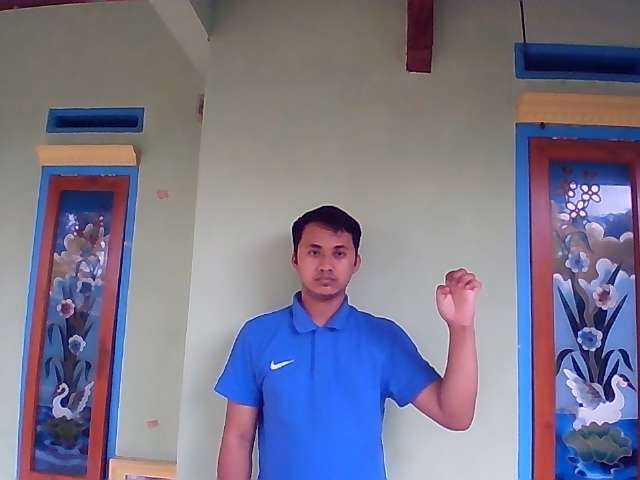E: (435, 268, 484, 328)
